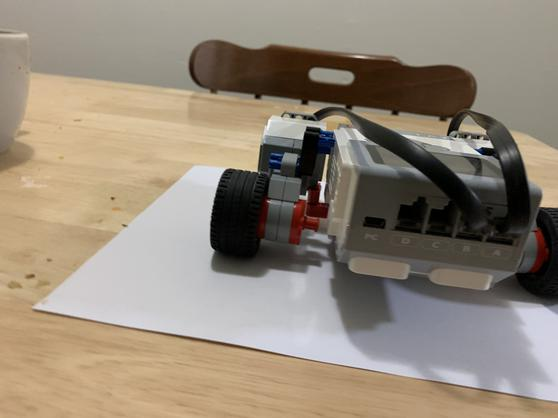robot: (210, 94, 558, 315)
